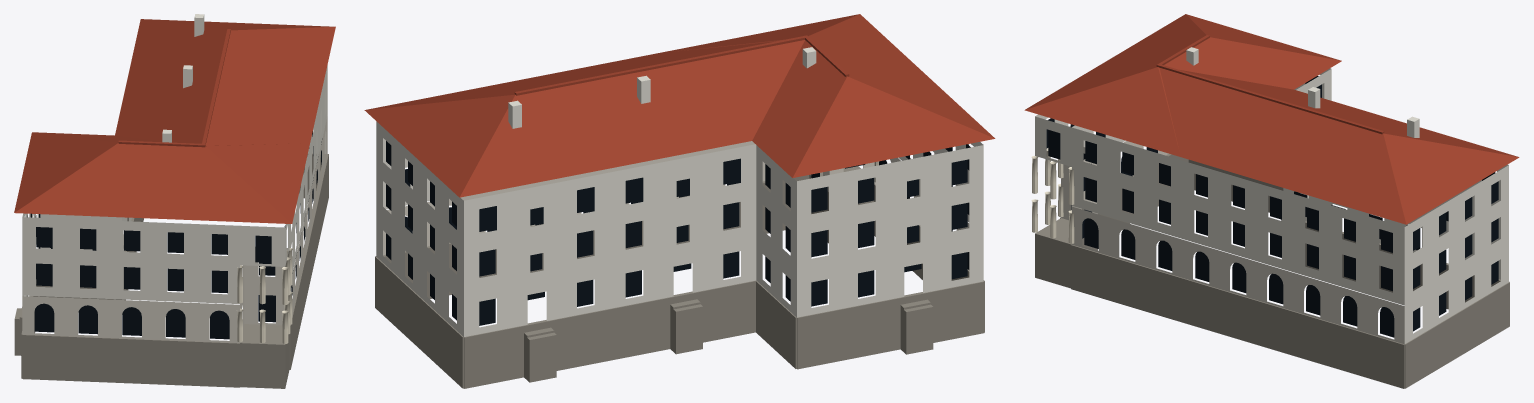
The model's file is nahimova12.lod.glb.
3 views of the same model, side by side, from view 1: azimuth 30°, elevation 25°; view 2: azimuth 150°, elevation 25°; view 3: azimuth 270°, elevation 25° (orthographic). The views are drawn at different scales.
Parts seen in each view (by area): view 1: nahimova12_roof, nahimova12_wall, nahimova12_stone, nahimova12_wall2, nahimova12_glass, nahimova12_trim_s; view 2: nahimova12_wall, nahimova12_roof, nahimova12_stone, nahimova12_glass, nahimova12_wall2; view 3: nahimova12_roof, nahimova12_wall, nahimova12_stone, nahimova12_glass, nahimova12_wall2, nahimova12_trim_s.
Boxes of the visible parts, <box> form: nahimova12_roof: <box>14,19,335,223</box>; nahimova12_wall: <box>22,14,327,303</box>; nahimova12_stone: <box>14,153,328,388</box>; nahimova12_wall2: <box>22,116,327,342</box>; nahimova12_glass: <box>27,131,322,339</box>; nahimova12_trim_s: <box>237,248,292,343</box>; nahimova12_wall: <box>376,47,983,336</box>; nahimova12_roof: <box>364,14,995,197</box>; nahimova12_stone: <box>375,166,984,388</box>; nahimova12_glass: <box>386,141,970,325</box>; nahimova12_wall2: <box>383,141,969,254</box>; nahimova12_roof: <box>1024,14,1519,224</box>; nahimova12_wall: <box>1035,47,1508,343</box>; nahimova12_stone: <box>1035,153,1509,388</box>; nahimova12_glass: <box>1046,76,1498,337</box>; nahimova12_wall2: <box>1061,141,1404,344</box>; nahimova12_trim_s: <box>1031,148,1074,243</box>.
Bounding box in the file's own units: 38.96 × 18 × 38.7.
